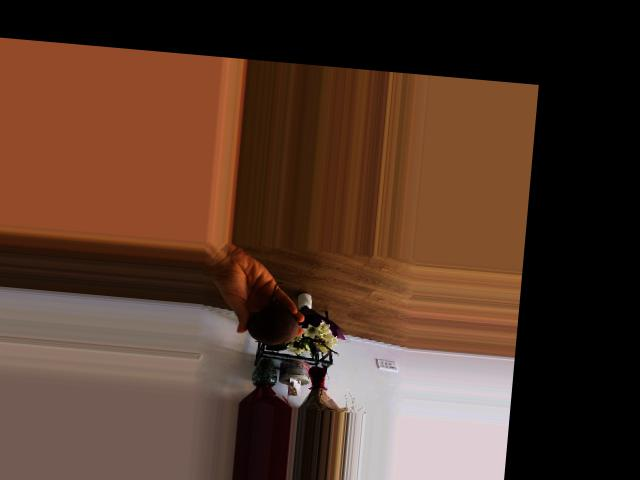beet: (246, 279, 303, 352)
